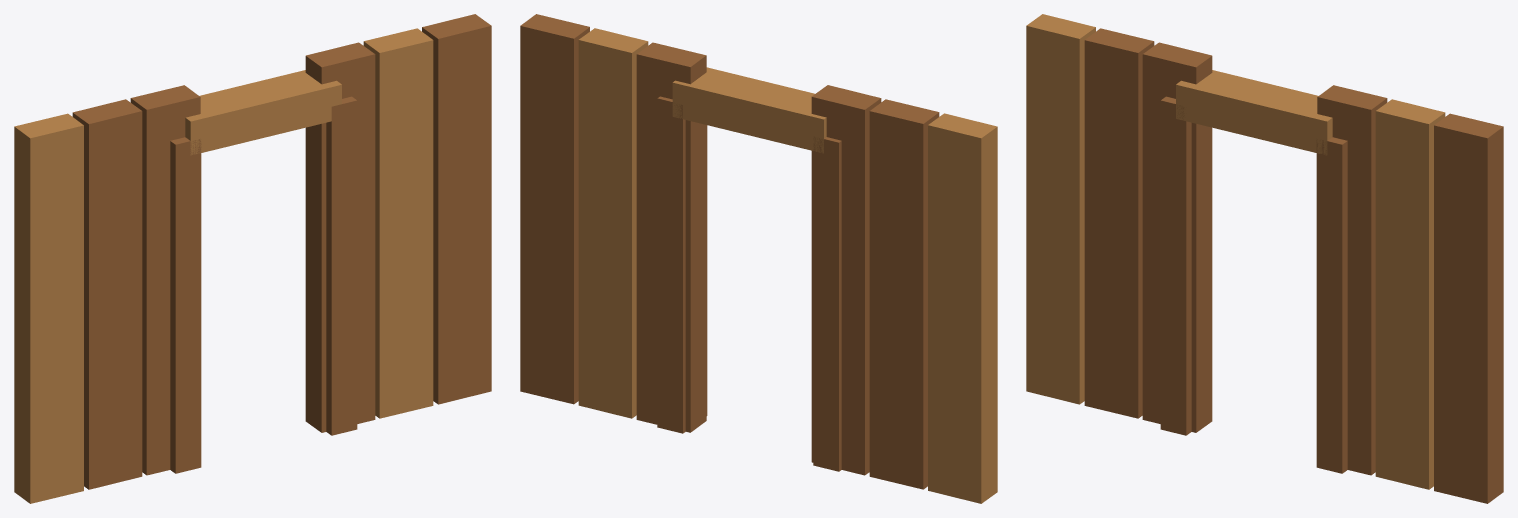
Rendered from wood_wall_door.glb.
3 views of the same model, side by side, from view 1: azimuth 30°, elevation 25°; view 2: azimuth 150°, elevation 25°; view 3: azimuth 330°, elevation 25° (orthographic).
Visible parts, largest first — view 1: Wall_1.002, Wall_2.002, Wall_7.002, Wall_8.002, Wall_6.002, Wall_3.002, Door_Left, Door_Right, Door_Header; view 2: Wall_1.002, Wall_7.002, Wall_2.002, Wall_8.002, Wall_6.002, Wall_3.002, Door_Right, Door_Left, Door_Header; view 3: Wall_8.002, Wall_2.002, Wall_7.002, Wall_1.002, Wall_3.002, Wall_6.002, Door_Right, Door_Left, Door_Header.
Boxes of the visible parts, left/top/right/bottom form: Wall_1.002: left=14, top=113, right=83, bottom=503; Wall_2.002: left=72, top=99, right=142, bottom=489; Wall_7.002: left=363, top=28, right=433, bottom=418; Wall_8.002: left=422, top=14, right=491, bottom=404; Wall_6.002: left=305, top=42, right=375, bottom=432; Wall_3.002: left=130, top=85, right=200, bottom=475; Door_Left: left=170, top=137, right=201, bottom=473; Door_Right: left=326, top=96, right=357, bottom=435; Door_Header: left=185, top=70, right=341, bottom=155; Wall_1.002: left=928, top=113, right=997, bottom=503; Wall_7.002: left=578, top=28, right=648, bottom=418; Wall_2.002: left=869, top=99, right=939, bottom=489; Wall_8.002: left=520, top=14, right=589, bottom=404; Wall_6.002: left=636, top=42, right=706, bottom=432; Wall_3.002: left=811, top=85, right=881, bottom=475; Door_Right: left=657, top=96, right=707, bottom=433; Door_Left: left=813, top=136, right=841, bottom=471; Door_Header: left=672, top=67, right=826, bottom=153; Wall_8.002: left=1434, top=113, right=1503, bottom=503; Wall_2.002: left=1084, top=28, right=1154, bottom=418; Wall_7.002: left=1375, top=99, right=1445, bottom=489; Wall_1.002: left=1026, top=14, right=1095, bottom=404; Wall_3.002: left=1142, top=42, right=1212, bottom=432; Wall_6.002: left=1317, top=85, right=1387, bottom=475; Door_Right: left=1316, top=137, right=1347, bottom=473; Door_Left: left=1160, top=96, right=1191, bottom=435; Door_Header: left=1176, top=70, right=1332, bottom=155.
Size of the model in its own units: 3.96 by 3 by 0.36.
